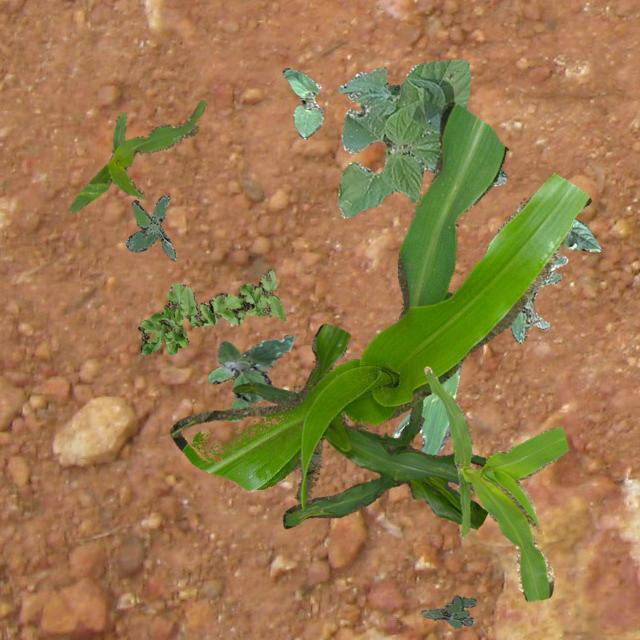crop: (170, 102, 590, 510), (232, 322, 486, 528), (390, 256, 566, 454), (424, 366, 566, 600), (336, 57, 504, 216), (68, 100, 205, 210), (282, 66, 324, 138), (562, 218, 600, 250), (386, 84, 399, 95)
weed: (138, 268, 284, 354), (208, 334, 294, 421), (510, 270, 560, 342), (124, 193, 176, 260), (420, 594, 474, 628)
